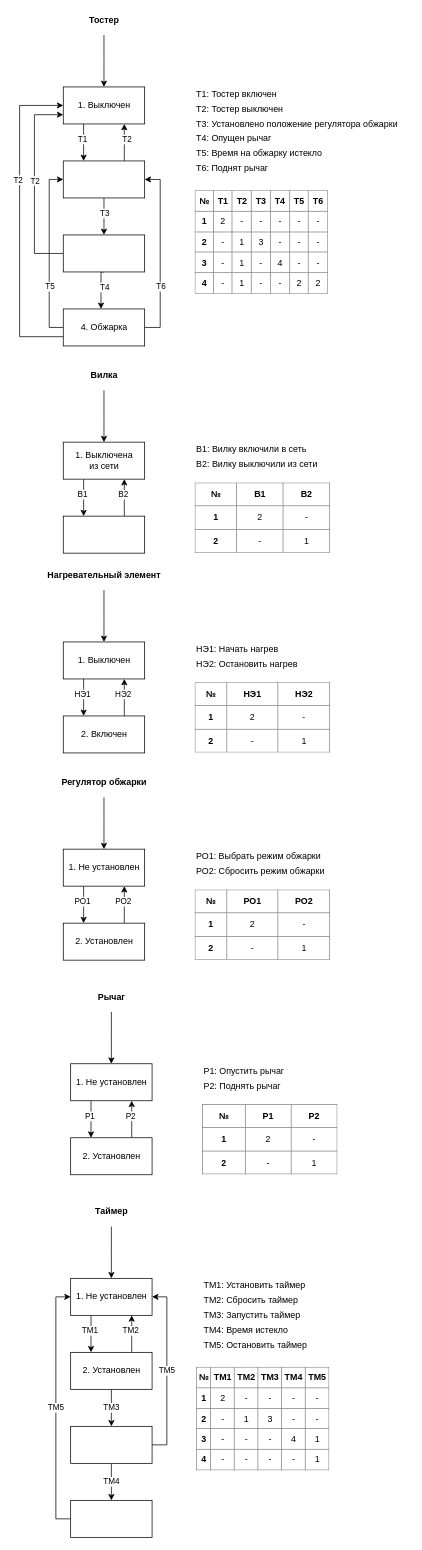
Image size: 422x1550. Some labels were removed from this diagram. Here are the shapes that lost their labels. From the top down, the centre of each, then its label:
At pixel 104 179: "2. Режим ожидания".
At pixel 104 253: "3. Таймер обжарки установлен".
At pixel 104 534: "2. Включена в сеть".
At pixel 111 1444: "3. Отсчет времени".
At pixel 111 1518: "4. Подача сигнала".
